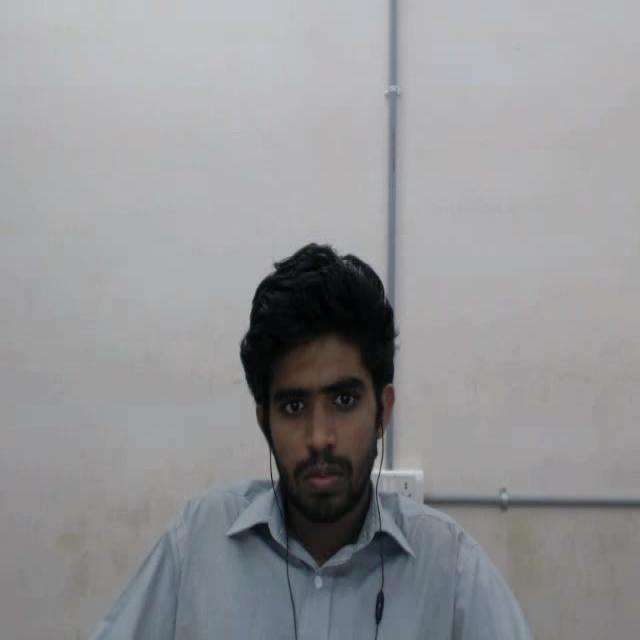Engaged: (229, 234, 426, 571)
